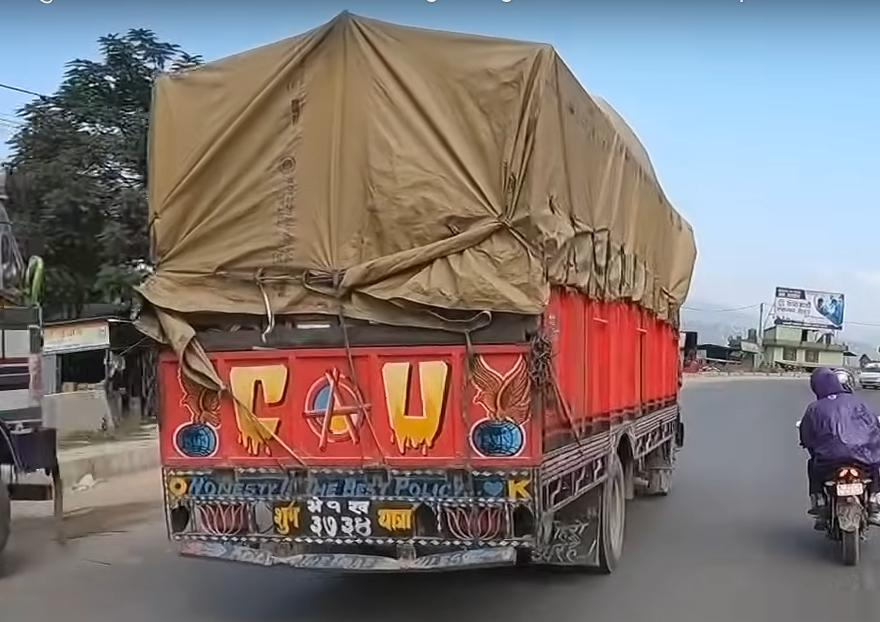bike: (795, 415, 880, 572)
car: (858, 361, 879, 389)
truck: (131, 9, 698, 575)
